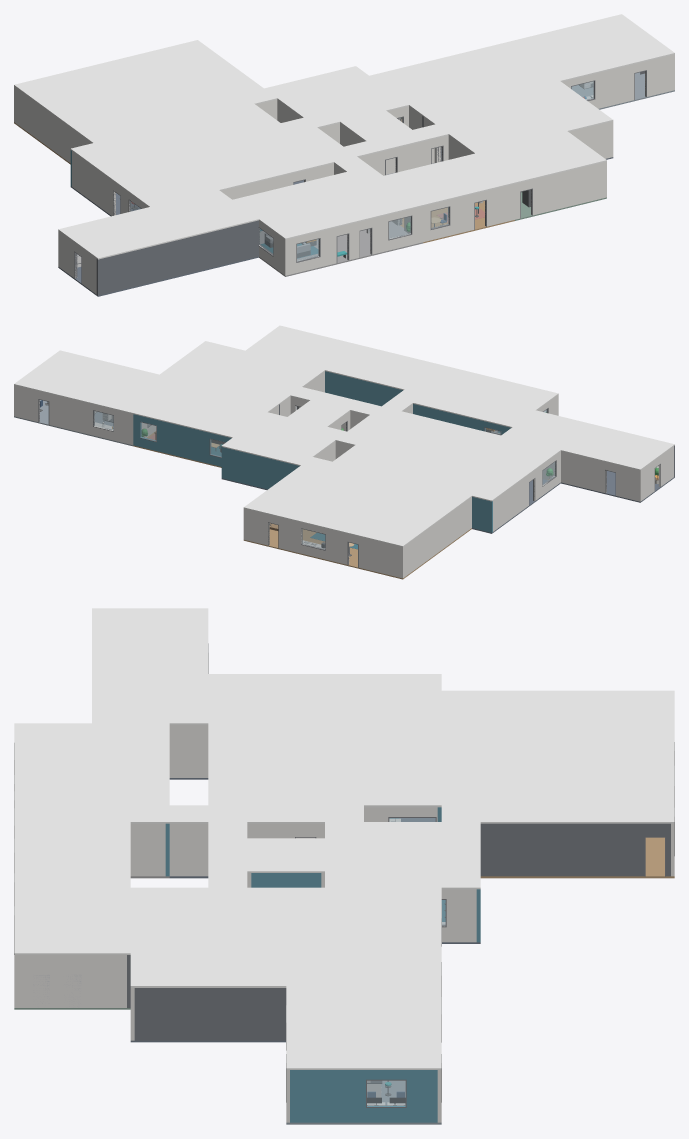
The model's file is ai_company_floor.glb.
The picture shows the model from 3 angles, top to bottom: view 1: azimuth 30°, elevation 25°; view 2: azimuth 150°, elevation 25°; view 3: azimuth 270°, elevation 25°; orthographic projection. The views are drawn at different scales.
Parts seen in each view (by area): view 1: T04_Ceiling, T13_Ceiling, T00_Ceiling, T14_Ceiling, T11_Ceiling, T12_Ceiling, T08_Ceiling, T12_Wall_N, T09_Ceiling, T01_Ceiling, T00_Wall_S, T06_Ceiling (+23 smaller); view 2: T13_Ceiling, T04_Ceiling, T00_Ceiling, T14_Ceiling, T11_Ceiling, T12_Ceiling, T08_Ceiling, T13_Wall_N, T14_Wall_N, T06_Ceiling, T01_Ceiling, T09_Ceiling (+20 smaller); view 3: T13_Ceiling, T04_Ceiling, T11_Ceiling, T14_Ceiling, T00_Ceiling, T12_Ceiling, T08_Ceiling, T13_Wall_E, T09_Ceiling, T11_Wall_E, T06_Ceiling, T01_Ceiling (+15 smaller).
Part boxes in pixels (box(x1,y1,x2,y2)): T04_Ceiling: box(70, 104, 333, 206); T13_Ceiling: box(14, 40, 277, 143); T00_Ceiling: box(232, 166, 423, 239); T14_Ceiling: box(484, 14, 674, 86); T11_Ceiling: box(422, 81, 613, 153); T12_Ceiling: box(58, 190, 258, 259); T08_Ceiling: box(369, 48, 536, 115); T12_Wall_N: box(96, 220, 258, 295); T09_Ceiling: box(475, 131, 606, 183); T01_Ceiling: box(384, 153, 514, 205); T00_Wall_S: box(284, 206, 423, 275); T06_Ceiling: box(264, 66, 395, 117); T13_Ceiling: box(243, 457, 471, 546); T04_Ceiling: box(333, 411, 560, 501); T00_Ceiling: box(393, 364, 558, 427); T14_Ceiling: box(14, 350, 178, 413); T11_Ceiling: box(160, 341, 324, 404); T12_Ceiling: box(501, 410, 674, 470); T08_Ceiling: box(133, 379, 278, 437); T13_Wall_N: box(243, 508, 403, 578); T14_Wall_N: box(14, 385, 133, 445); T06_Ceiling: box(221, 420, 335, 465); T01_Ceiling: box(325, 345, 438, 390); T09_Ceiling: box(246, 325, 358, 369); T13_Ceiling: box(441, 690, 674, 823); T04_Ceiling: box(208, 674, 441, 807); T11_Ceiling: box(130, 887, 286, 987); T14_Ceiling: box(286, 969, 441, 1069); T00_Ceiling: box(14, 723, 169, 823); T12_Ceiling: box(92, 608, 208, 724); T08_Ceiling: box(286, 887, 441, 969); T13_Wall_E: box(480, 823, 670, 876); T09_Ceiling: box(14, 887, 130, 954); T11_Wall_E: box(134, 988, 282, 1040); T06_Ceiling: box(364, 822, 480, 889); T01_Ceiling: box(14, 822, 130, 887).
Size of the model in its own units: 56.02 by 3.2 by 34.02.
